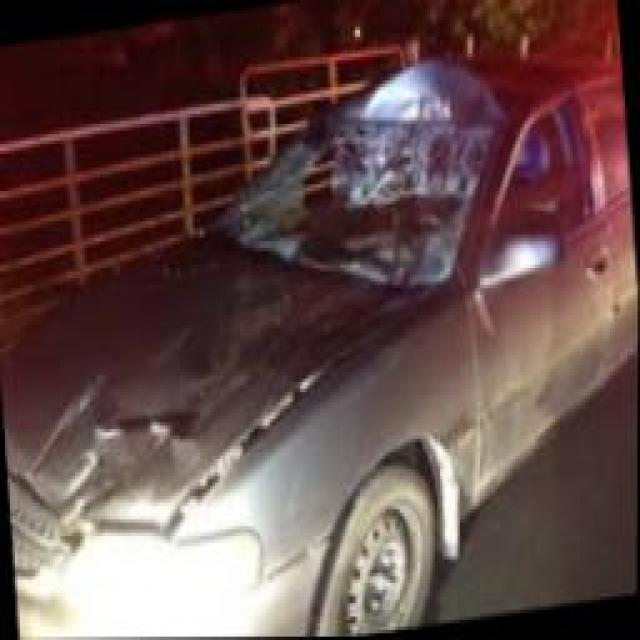Bonnet: (0, 231, 445, 536)
Windshield: (195, 113, 493, 302)
